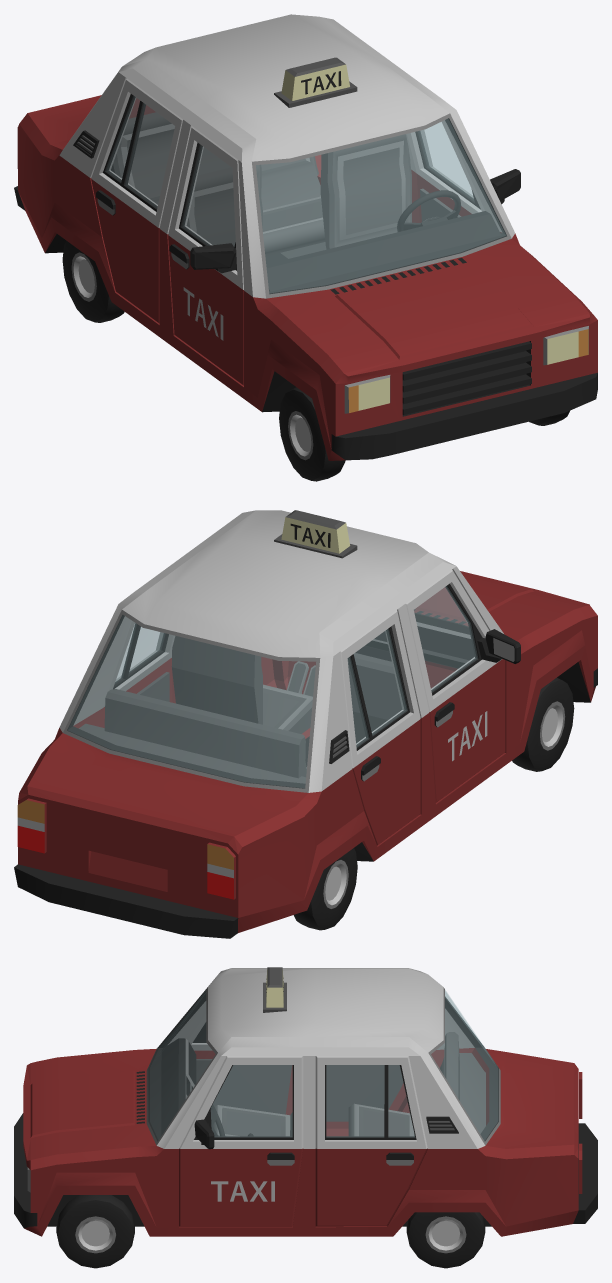
File: TaxiCab.fbx
The picture shows the model from 3 angles, top to bottom: view 1: azimuth 30°, elevation 25°; view 2: azimuth 150°, elevation 25°; view 3: azimuth 270°, elevation 25°; orthographic projection. The views are drawn at different scales.
Visible parts, largest first — view 1: Chassis, Cristales, Line001, FL_Door001, RL_Door001, Interior, FL_Door, FR_Wheel, RR_Wheel, Steerwheel; view 2: Chassis, Cristales, Line001, FL_Door001, RL_Door001, RL_Door, FR_Wheel, RR_Wheel, Interior; view 3: Chassis, FL_Door, RL_Door, Cristales, FL_Wheel, Line001, FL_Door001, RL_Wheel, RL_Door001, Interior.
Boxes of the visible parts, x1,y1,x2,y2 form: Chassis: (14,14,597,460); Cristales: (130,98,506,293); Line001: (111,112,411,258); FL_Door001: (168,126,243,385); RL_Door001: (91,78,182,323); Interior: (265,211,500,291); FL_Door: (407,120,520,222); FR_Wheel: (279,387,345,481); RR_Wheel: (62,241,124,322); Steerwheel: (397,190,460,231); Chassis: (14,510,597,938); Cristales: (67,587,467,788); Line001: (104,636,402,778); FL_Door001: (405,570,520,802); RL_Door001: (340,610,420,845); RL_Door: (103,621,175,714); FR_Wheel: (512,677,574,771); RR_Wheel: (293,848,357,930); Interior: (305,617,474,766); Chassis: (14,967,597,1236); FL_Door: (179,1056,303,1226); RL_Door: (315,1056,427,1226); Cristales: (149,990,498,1140); FL_Wheel: (56,1195,134,1268); Line001: (213,1032,459,1136); FL_Door001: (186,1009,292,1114); RL_Wheel: (406,1212,485,1268); RL_Door001: (326,1065,406,1128); Interior: (161,1038,253,1136).
Bounding box in the file's own units: 1.99 × 1.75 × 3.79.
